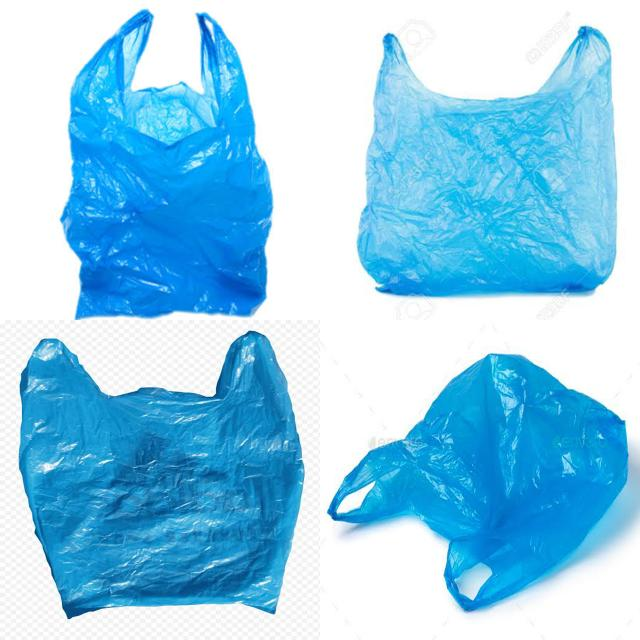Single-layer Plastic: (20, 332, 304, 618), (329, 354, 628, 610), (358, 26, 616, 295), (61, 10, 272, 318)
